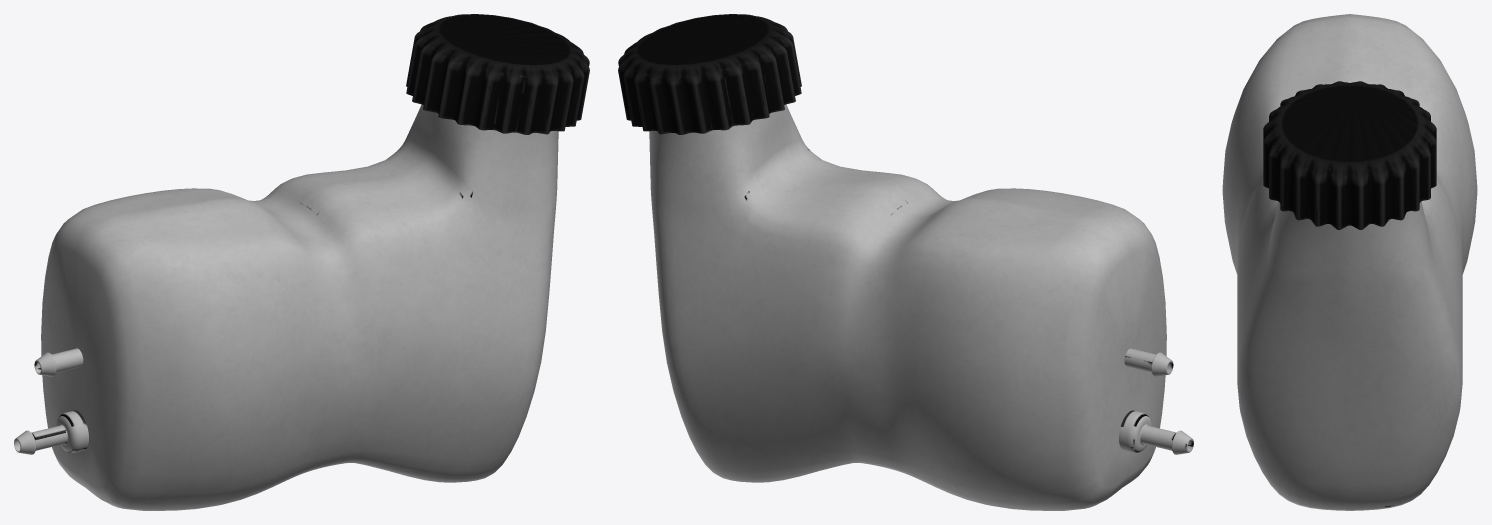
File: reservoirTank.glb
The picture shows the model from 3 angles, left to right: view 1: azimuth 30°, elevation 25°; view 2: azimuth 150°, elevation 25°; view 3: azimuth 270°, elevation 25°; orthographic projection.
Visible parts, largest first — view 1: Cube; view 2: Cube; view 3: Cube.
Boxes of the visible parts, x1,y1,x2,y2 form: Cube: (14, 14, 589, 510); Cube: (618, 14, 1193, 510); Cube: (1222, 14, 1477, 510).
Bounding box in the file's own units: 1.02 × 0.7308 × 0.4032.
1 material, 1 textured.
